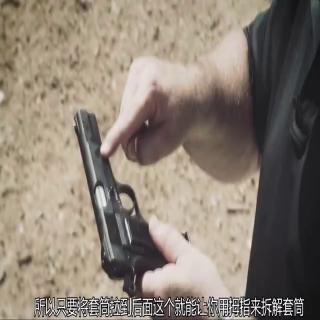gun: (65, 95, 198, 308)
